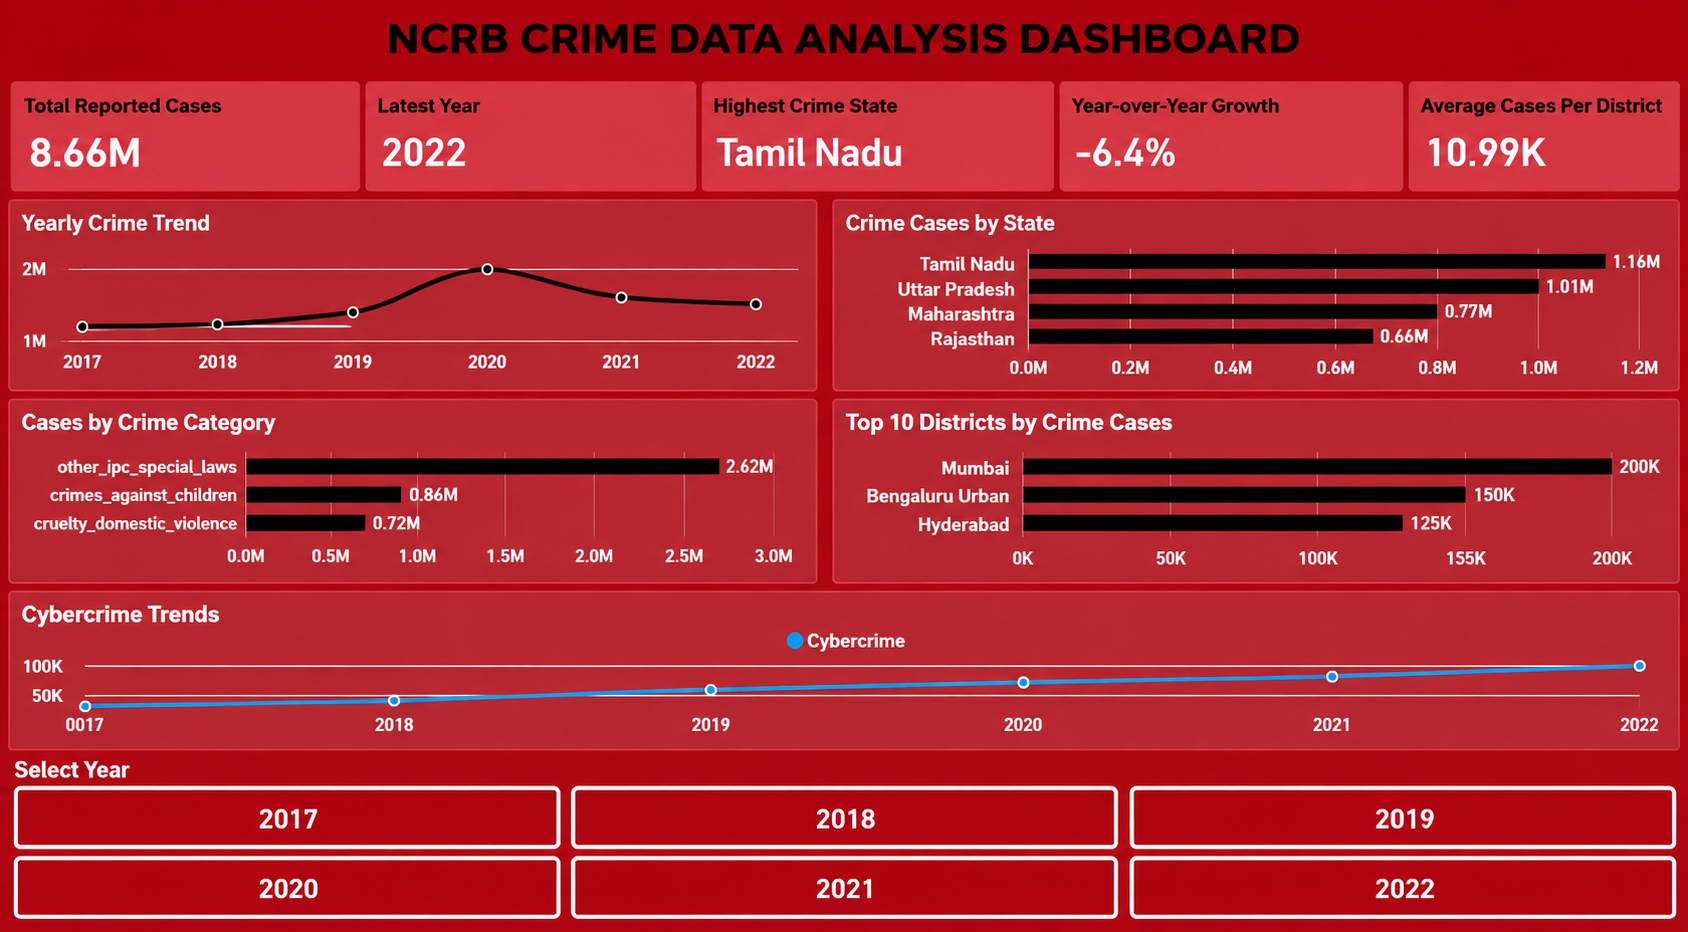

This screenshot's page, from the dashboard's own definition file:
{"tool":"powerbi","page":{"name":"Executive Overview","canvas":[1920,1080],"ordinal":0},"visuals":[{"type":"lineChart","title":"Yearly Crime Trend","fields":{"Category":["public vw_pbi_yearly.year"],"Y":["Sum(public vw_pbi_yearly.total_cases)"]},"box":[0,235,853,197.3],"z":0},{"type":"cardVisual","title":"Total Reported Cases","fields":{"Data":["public vw_pbi_district.Total Reported Cases"]},"box":[0,115,304,107.7],"z":1000},{"type":"cardVisual","title":"Latest Year","fields":{"Data":["public vw_pbi_yearly.Latest Year"]},"box":[375,115,319,108.7],"z":2000},{"type":"clusteredBarChart","title":"Cases by Crime Category","fields":{"Category":["public vw_pbi_yearly.crime_category"],"Y":["Sum(public vw_pbi_yearly.total_cases)"]},"box":[3.3,446,853,177],"z":3000},{"type":"advancedSlicerVisual","title":"Select Year","fields":{"Values":["public vw_pbi_yearly.year"]},"box":[0,842,1919,238],"z":4000},{"type":"textbox","box":[1.4,1.4,1917.1,100],"z":5000},{"type":"cardVisual","title":"Highest Crime State","fields":{"Data":["Min(public vw_pbi_state.state_name)"]},"box":[772,114,344,106.7],"z":6000},{"type":"clusteredBarChart","title":"Crime Cases by State","fields":{"Category":["public vw_pbi_state.state_name"],"Y":["Sum(public vw_pbi_state.total_cases)"]},"box":[890,233,1030,198],"z":7000},{"type":"lineChart","title":"Cybercrime Trends","fields":{"Category":["public vw_pbi_yearly.year"],"Y":["Sum(public vw_pbi_yearly.total_cases)"],"Series":["public vw_pbi_yearly.crime_category"]},"box":[1,637,1918,190],"z":8000},{"type":"clusteredBarChart","title":"Top 10 Districts by Crime Cases","fields":{"Category":["public vw_pbi_district.district_name"],"Y":["Sum(public vw_pbi_district.total_cases)"]},"box":[891,445.7,1027,183.7],"z":9000},{"type":"cardVisual","title":"Year-over-Year Growth","fields":{"Data":["public vw_pbi_district.YoY Growth %"]},"box":[1192,117.3,304,105.7],"z":10000},{"type":"cardVisual","title":"Average Cases Per District","fields":{"Data":["public vw_pbi_district.Average Cases per District"]},"box":[1577.3,118.7,304.3,104],"z":11000}]}

Visuals, with their boxes in screenshot pixels (x1, y1, x2, y2), scaled from the page's 1920x1080 canvas onto the 1688x932 screenshot:
"Yearly Crime Trend" lineChart: 0 203 750 373
"Total Reported Cases" cardVisual: 0 99 267 192
"Latest Year" cardVisual: 330 99 610 193
"Cases by Crime Category" clusteredBarChart: 3 385 753 538
"Select Year" advancedSlicerVisual: 0 727 1687 931
textbox: 1 1 1687 88
"Highest Crime State" cardVisual: 679 98 981 190
"Crime Cases by State" clusteredBarChart: 782 201 1687 372
"Cybercrime Trends" lineChart: 1 550 1687 714
"Top 10 Districts by Crime Cases" clusteredBarChart: 783 385 1686 543
"Year-over-Year Growth" cardVisual: 1048 101 1315 192
"Average Cases Per District" cardVisual: 1387 102 1654 192
